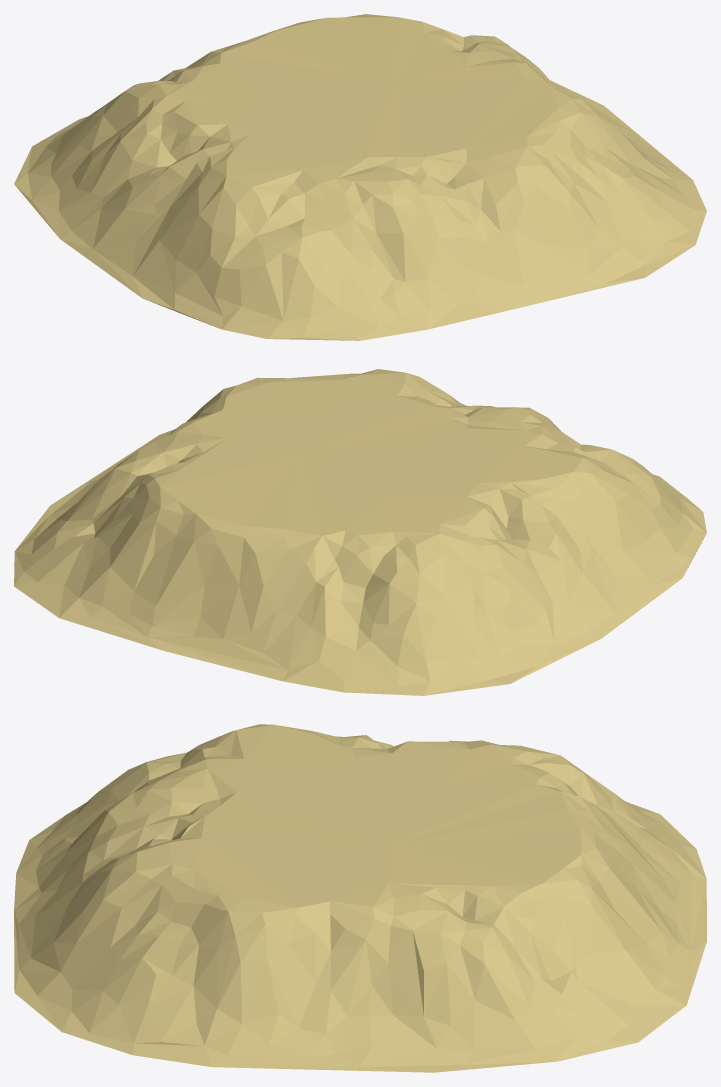
Rendered from TerrainSand_3.fbx.
3 views of the same model, one above another, from view 1: azimuth 30°, elevation 25°; view 2: azimuth 150°, elevation 25°; view 3: azimuth 270°, elevation 25° (orthographic). The views are drawn at different scales.
Parts seen in each view (by area): view 1: TerrainSand_3; view 2: TerrainSand_3; view 3: TerrainSand_3.
Boxes of the visible parts, x1,y1,x2,y2 form: TerrainSand_3: (14,14,706,340); TerrainSand_3: (14,369,706,695); TerrainSand_3: (14,724,706,1072).
Size of the model in its own units: 1298 by 209 by 1273.
